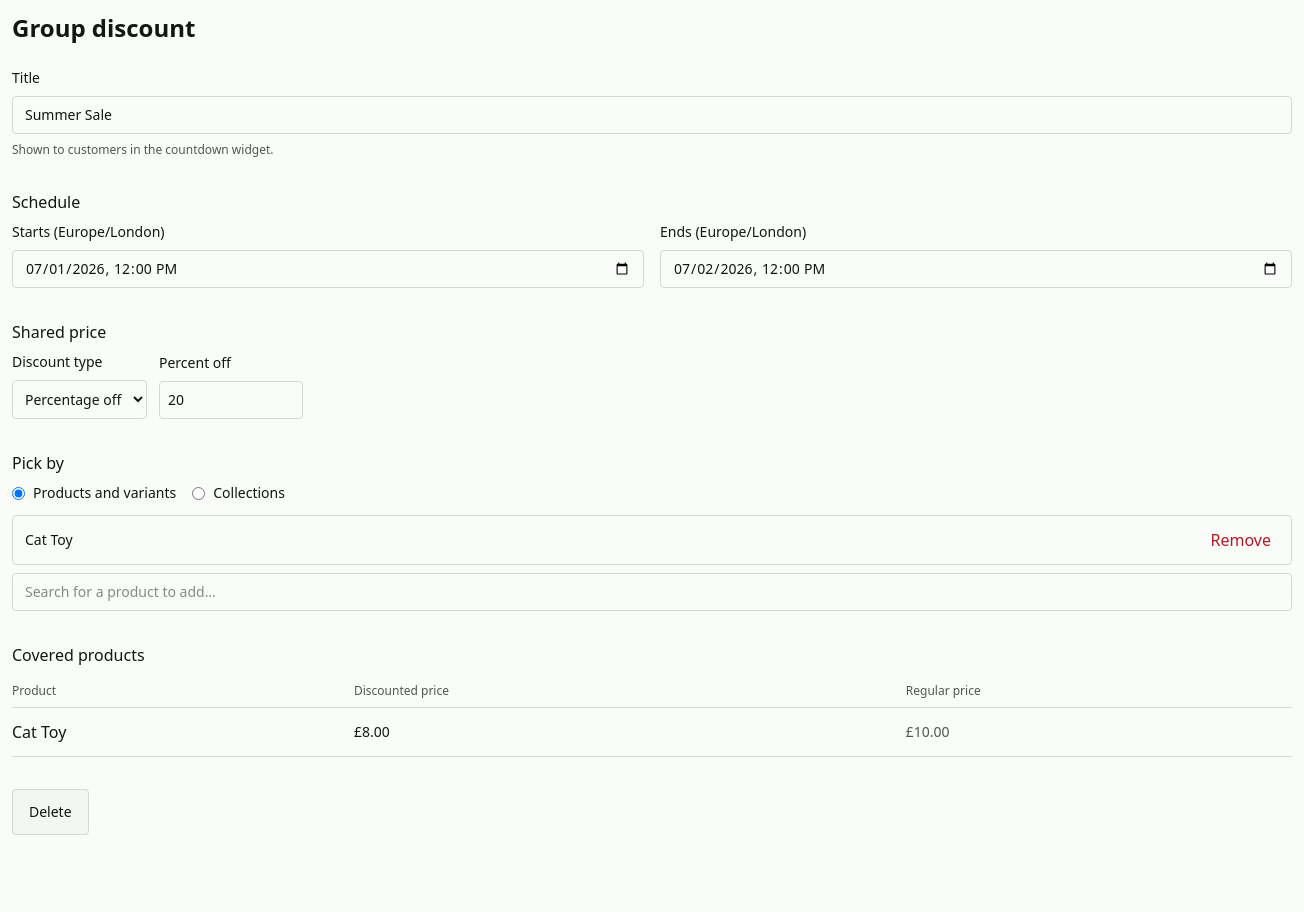
Test: GroupDiscountEditor — shared price › does not save an amount that is empty or not valid, and says why when it is not valid
Replace the text in the number field labelled "Percent off" with "150" at point(231, 400), box left=159, top=381, right=303, bottom=419
Wait 1200 ms
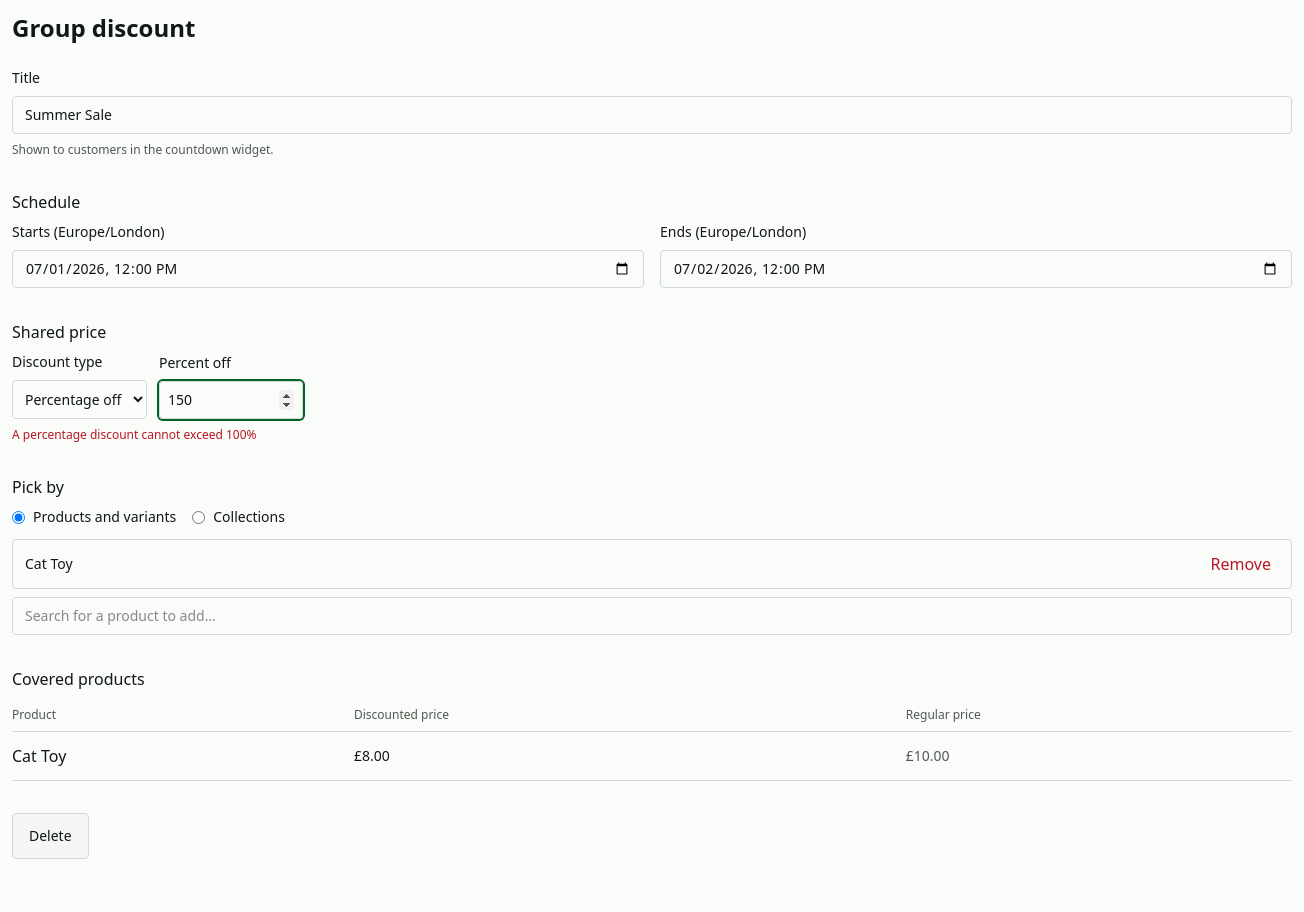
Expected: the message reads "A percentage discount cannot exceed 100%", left=12, top=426, right=256, bottom=443
